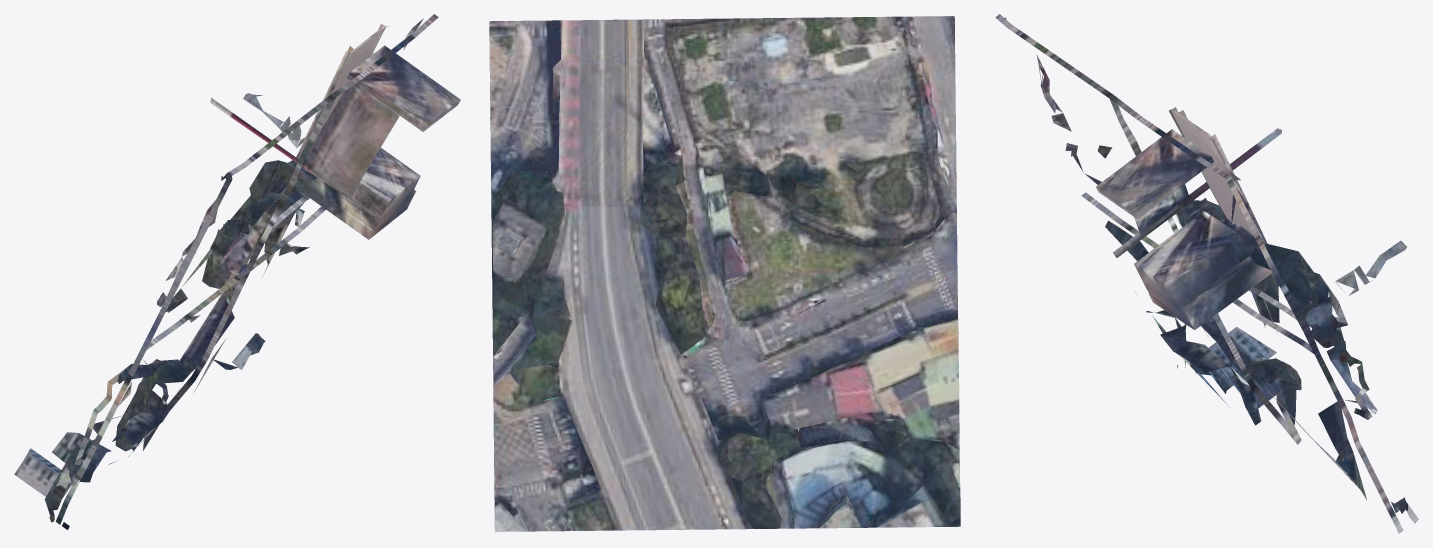
The picture shows the model from 3 angles, left to right: view 1: azimuth 30°, elevation 25°; view 2: azimuth 150°, elevation 25°; view 3: azimuth 270°, elevation 25°; orthographic projection. The views are drawn at different scales.
Size of the model in its own units: 156 by 145 by 133.
2 materials, 2 textured.
